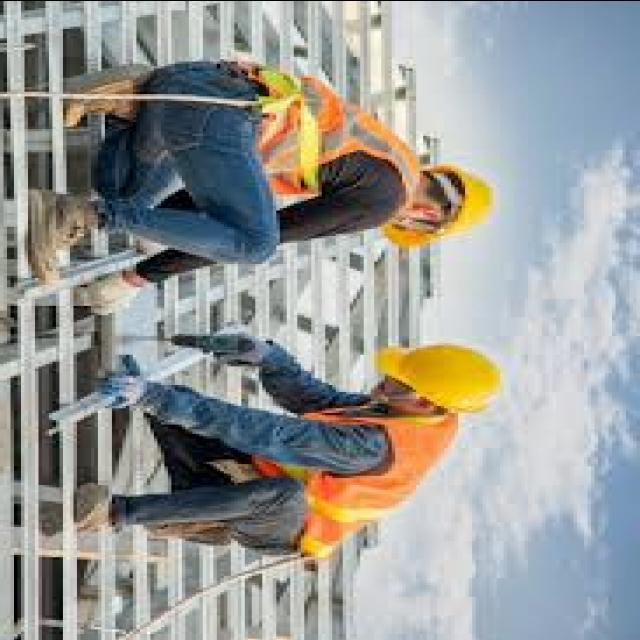Boots: (8, 54, 166, 286), (68, 481, 248, 546)
Gloves: (86, 344, 162, 419), (76, 266, 148, 318), (212, 328, 282, 373)
Hard Hat: (379, 342, 510, 416), (430, 148, 510, 262)
Reflective Vest: (248, 400, 466, 563), (242, 55, 422, 214)
